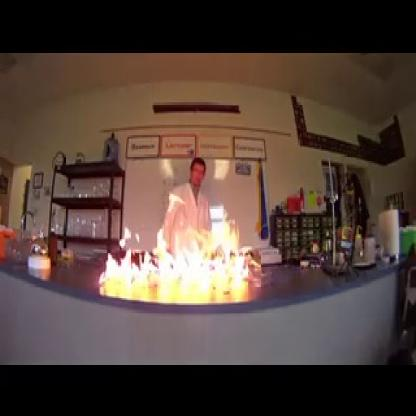fire: (97, 216, 259, 292)
